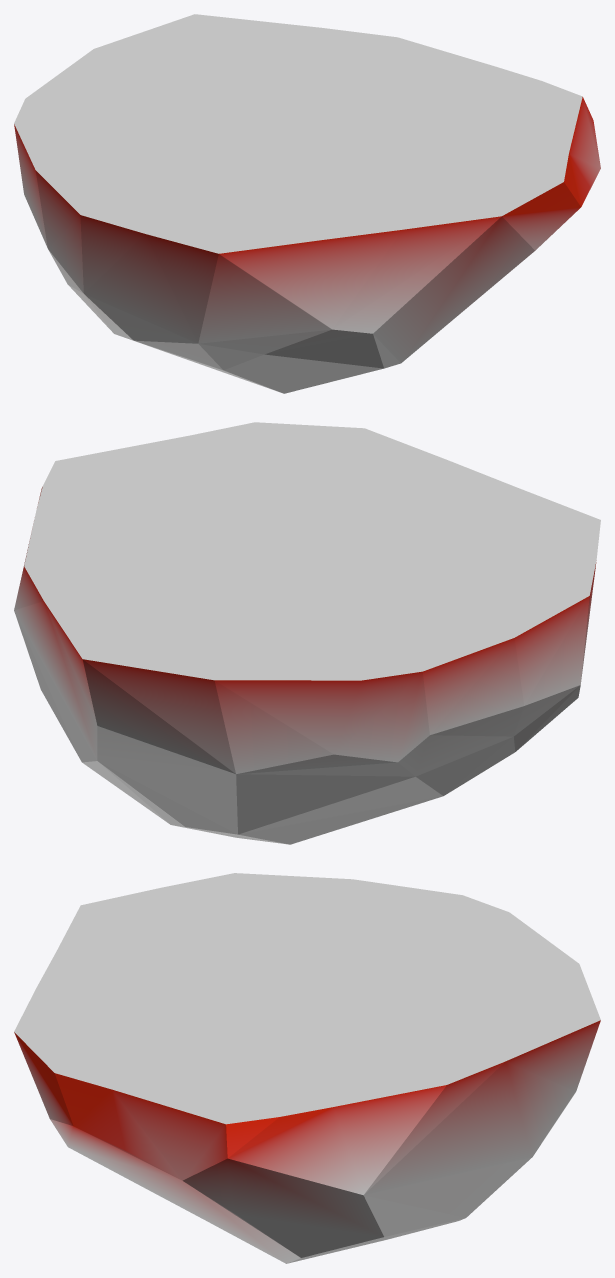
File: island_wk_02.fbx
3 renders of one model, top to bottom at view 1: azimuth 30°, elevation 25°; view 2: azimuth 150°, elevation 25°; view 3: azimuth 270°, elevation 25°, orthographic. The views are drawn at different scales.
Visible parts, largest first — view 1: island.005; view 2: island.005; view 3: island.005.
Boxes of the visible parts, x1=… form: island.005: x1=14, y1=14, x2=600, y2=393; island.005: x1=14, y1=422, x2=600, y2=844; island.005: x1=14, y1=873, x2=600, y2=1263.
Size of the model in its own units: 19601 by 8645 by 18906.
